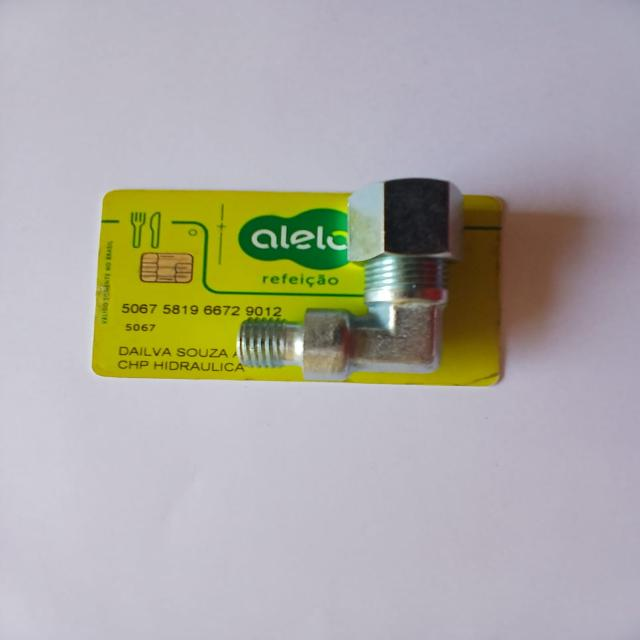cartao: (92, 184, 498, 383)
rosca_externa: (240, 178, 467, 382)
